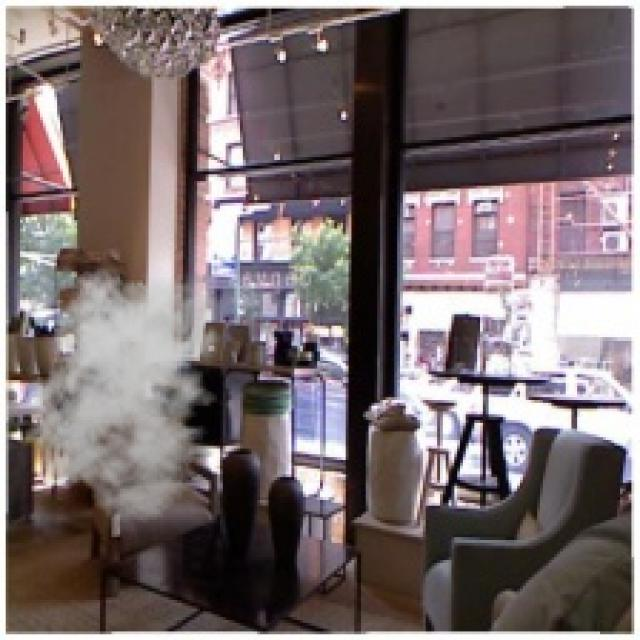smoke: (23, 260, 231, 523)
